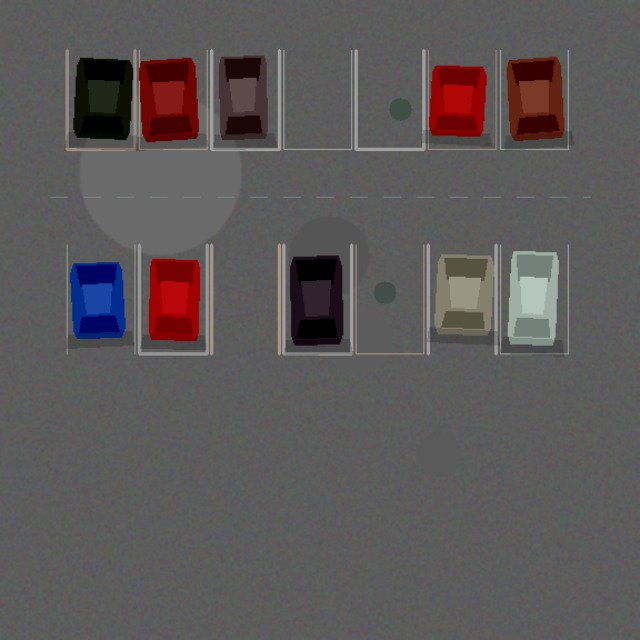space-empty: (211, 244, 279, 353), (356, 244, 423, 353), (283, 50, 351, 149), (356, 50, 423, 149)
space-occupied: (139, 244, 207, 353), (283, 244, 351, 353), (428, 244, 496, 353), (500, 244, 568, 353), (67, 244, 134, 353), (139, 50, 207, 149), (211, 50, 279, 149), (428, 50, 496, 149), (500, 50, 568, 149), (67, 50, 134, 149)
